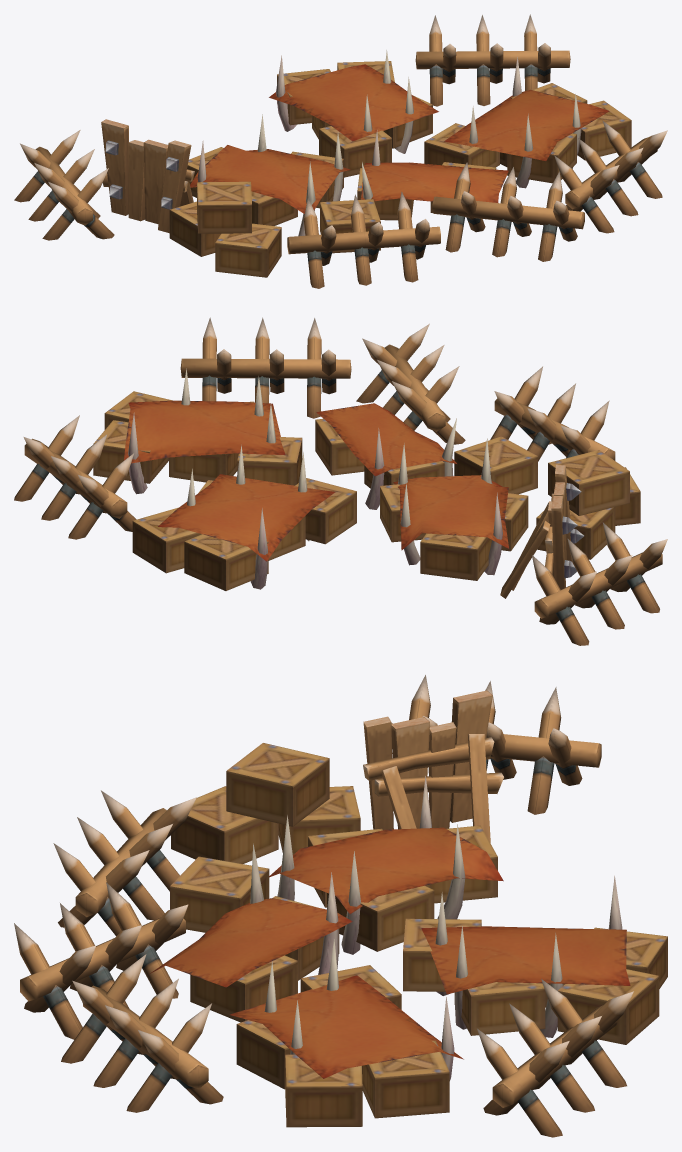
Rendered from area_03_23.fbx.
The picture shows the model from 3 angles, top to bottom: view 1: azimuth 30°, elevation 25°; view 2: azimuth 150°, elevation 25°; view 3: azimuth 270°, elevation 25°; orthographic projection. The views are drawn at different scales.
Visible parts, largest first — view 1: area_03_23; view 2: area_03_23; view 3: area_03_23.
Boxes of the visible parts, box(x1,y1,x2,y2) form: area_03_23: box(14, 14, 667, 288); area_03_23: box(14, 317, 667, 645); area_03_23: box(14, 675, 667, 1137).
Size of the model in its own units: 21.94 by 3.99 by 15.98.
